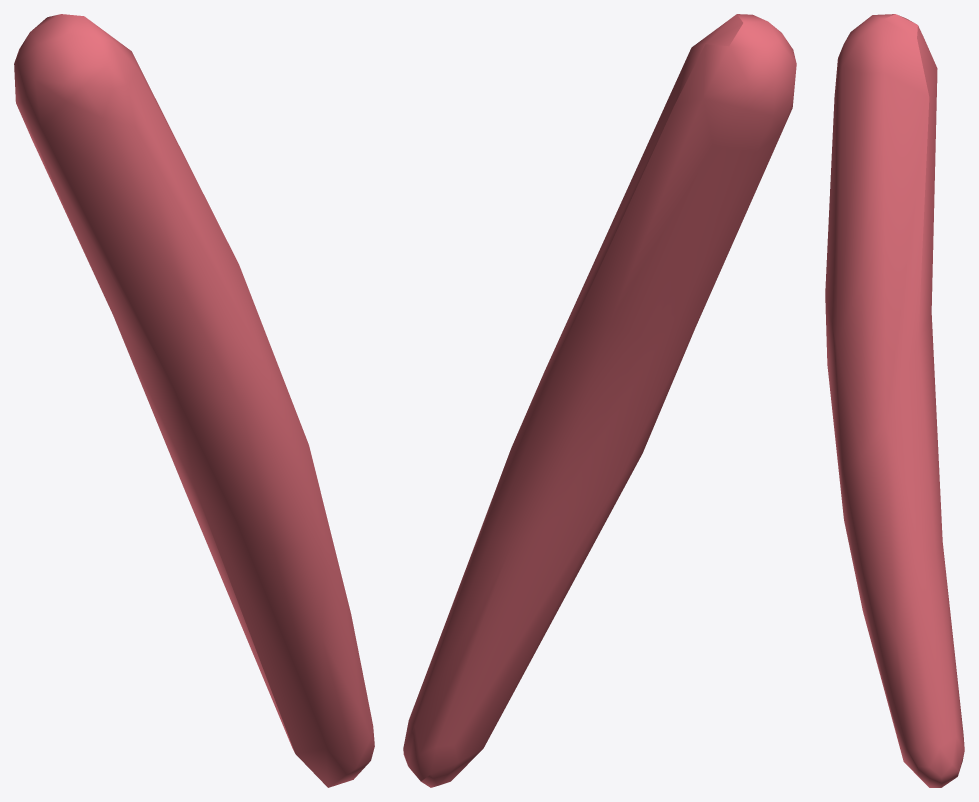
The model's file is fma9428_fj3058.glb.
3 views of the same model, side by side, from view 1: azimuth 30°, elevation 25°; view 2: azimuth 150°, elevation 25°; view 3: azimuth 270°, elevation 25° (orthographic). The views are drawn at different scales.
Visible parts, largest first — view 1: FMA9428_FJ3058; view 2: FMA9428_FJ3058; view 3: FMA9428_FJ3058.
Part boxes in pixels (bbox=[...]): FMA9428_FJ3058: bbox=[14, 14, 374, 787]; FMA9428_FJ3058: bbox=[403, 14, 796, 787]; FMA9428_FJ3058: bbox=[825, 14, 964, 787].
Bounding box in the file's own units: 0.00869 × 0.0189 × 0.00362.
